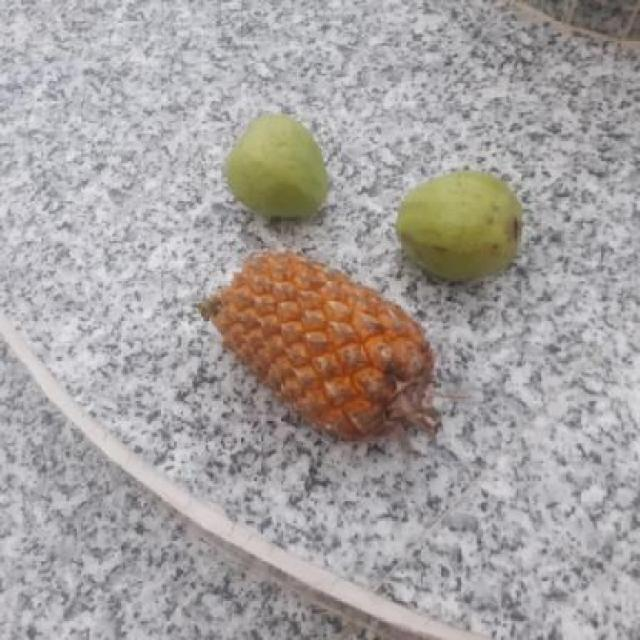guava: (388, 170, 524, 279), (220, 114, 331, 220)
pineapple: (200, 247, 449, 444)
